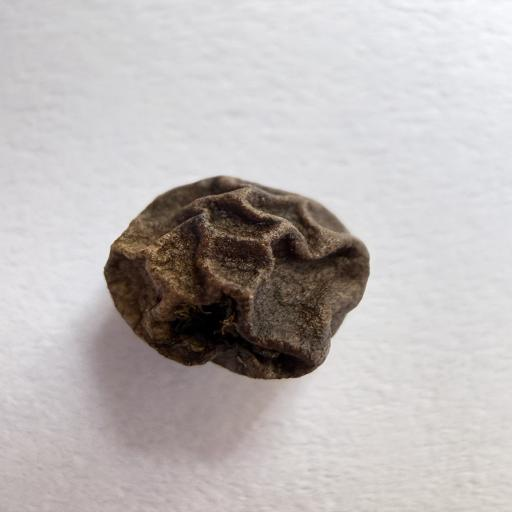Black_pepper: (51, 144, 440, 392)
